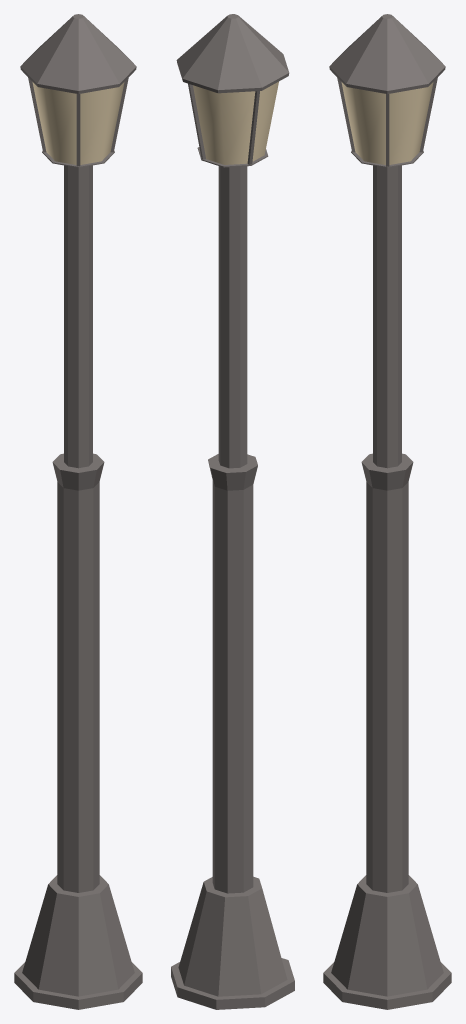
Rendered from Lamp.gltf.
The picture shows the model from 3 angles, left to right: view 1: azimuth 90°, elevation 25°; view 2: azimuth 210°, elevation 25°; view 3: azimuth 270°, elevation 25°; orthographic projection.
Parts seen in each view (by area): view 1: SM_Lamp_01__11_; view 2: SM_Lamp_01__11_; view 3: SM_Lamp_01__11_.
Part boxes in pixels (x1,y1,x2,y2): SM_Lamp_01__11_: (14,14,142,1009); SM_Lamp_01__11_: (171,14,294,1009); SM_Lamp_01__11_: (323,14,451,1009).
Bounding box in the file's own units: 0.3532 × 2.94 × 0.3532.
1 material, 1 textured.
